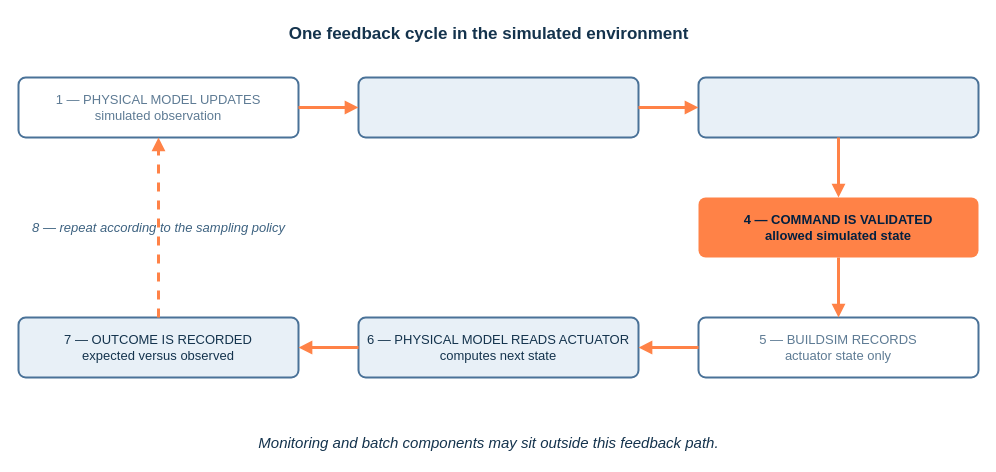
This 996x472 diagram has some shape labels left out. The shapes that lost their labels are listed below. From the top down, each one's box as (x1, y1, x2, y2) in pixels, then its label:
(357, 76, 639, 138): 2 — BUILDSIM STORES STATE value + timestamp
(697, 76, 979, 138): 3 — CONTROLLER EVALUATES observation + policy
